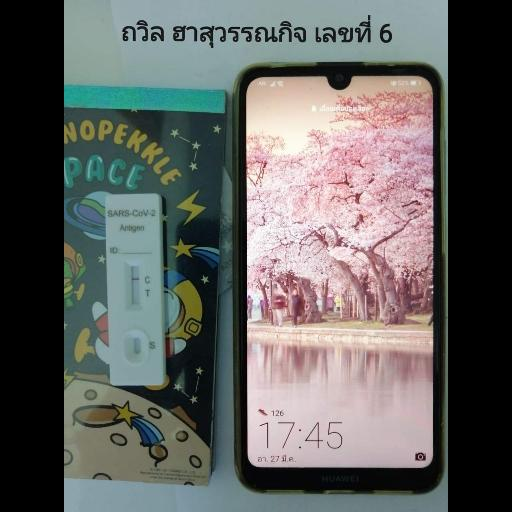Neg: (104, 192, 160, 386)
